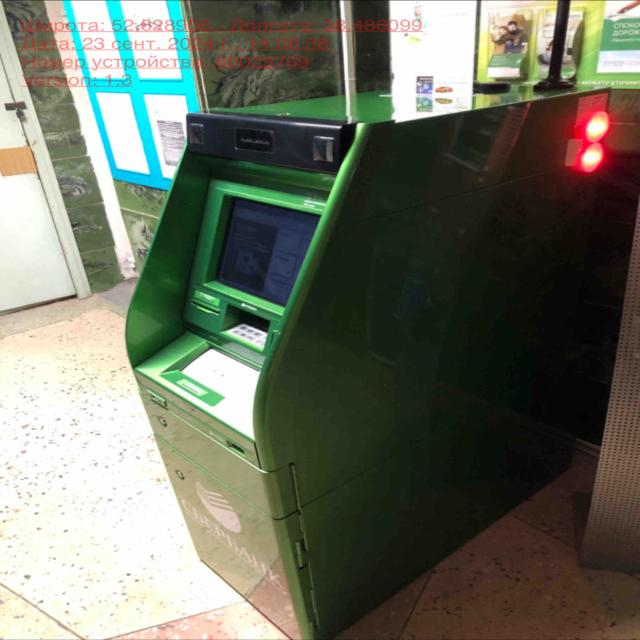bank: (120, 79, 638, 640)
